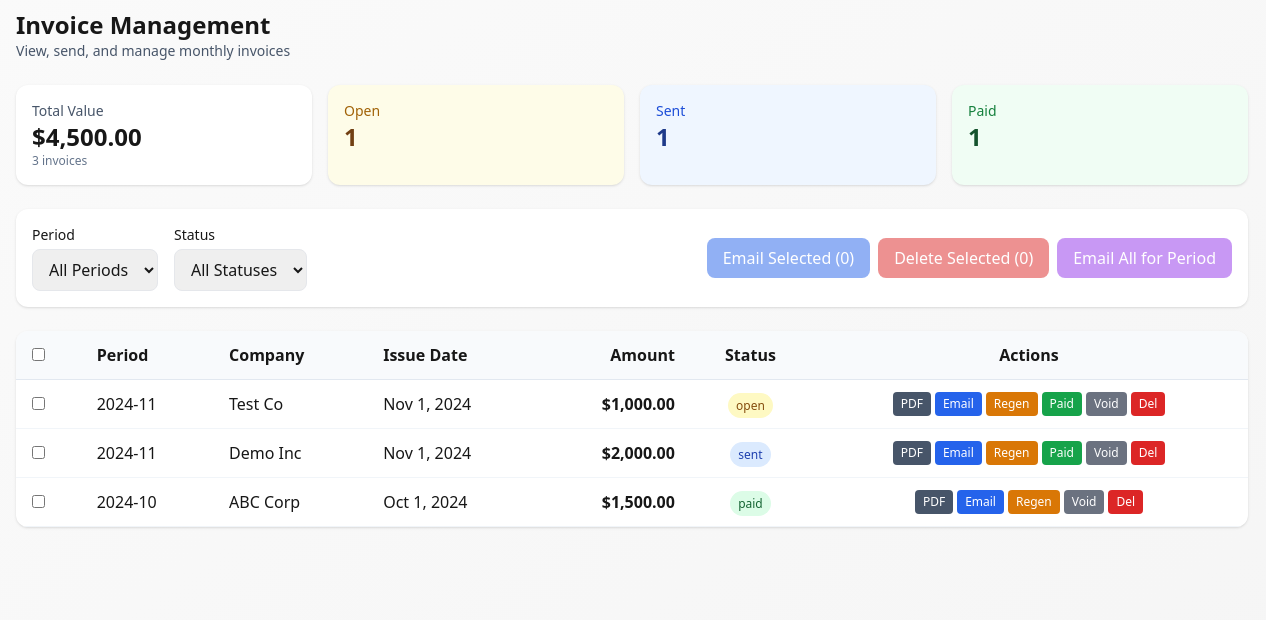
Test: InvoiceManager Component › Batch Email Operations › should clear selection after successful batch email
What coordinates should you click on to do the following:
click the checkbox in the row of "Test Co"
I would click on:
 (38, 404)
Its box is [32,397,45,410].
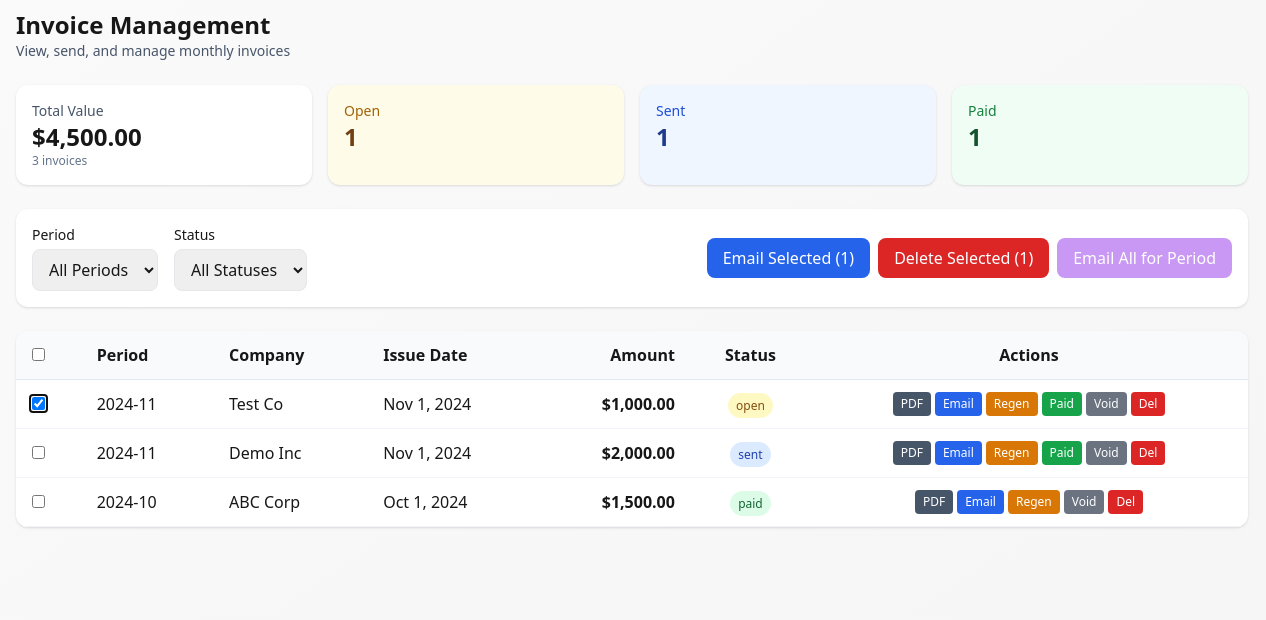
What coordinates should you click on to do the following:
click the button "Email Selected (1)"
I would click on:
 (788, 258)
Its box is [707,238,870,278].
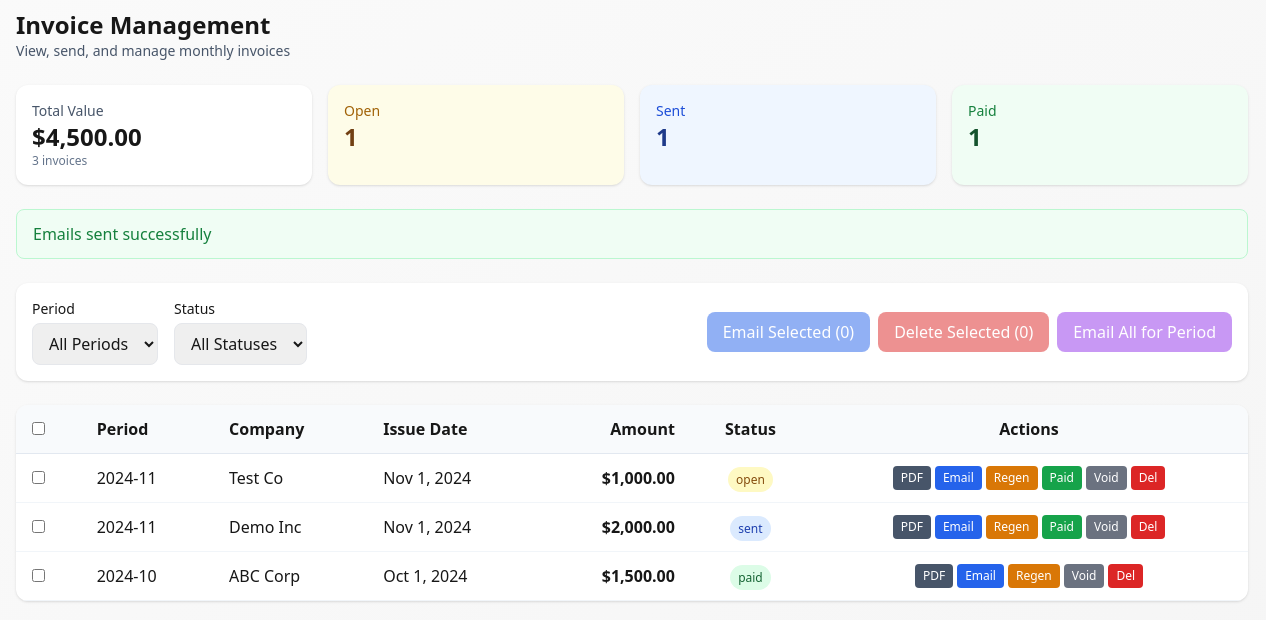
expect the button "Email Selected (0)" is shown: met, box [707,312,870,352]
